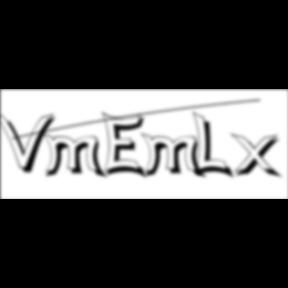E: (102, 110, 150, 182)
L: (193, 110, 237, 182)
V: (1, 110, 60, 176)
m: (42, 132, 110, 181), (140, 132, 208, 181)
x: (232, 132, 286, 181)
